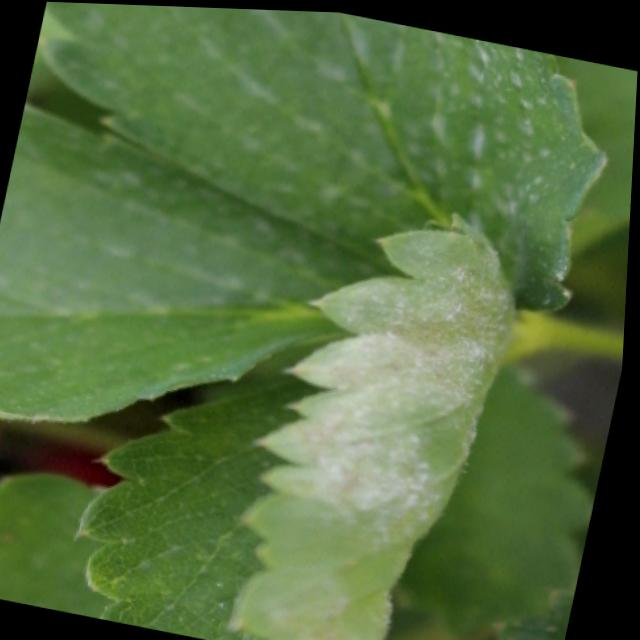Powdery Mildew Leaf: (81, 206, 521, 640)
